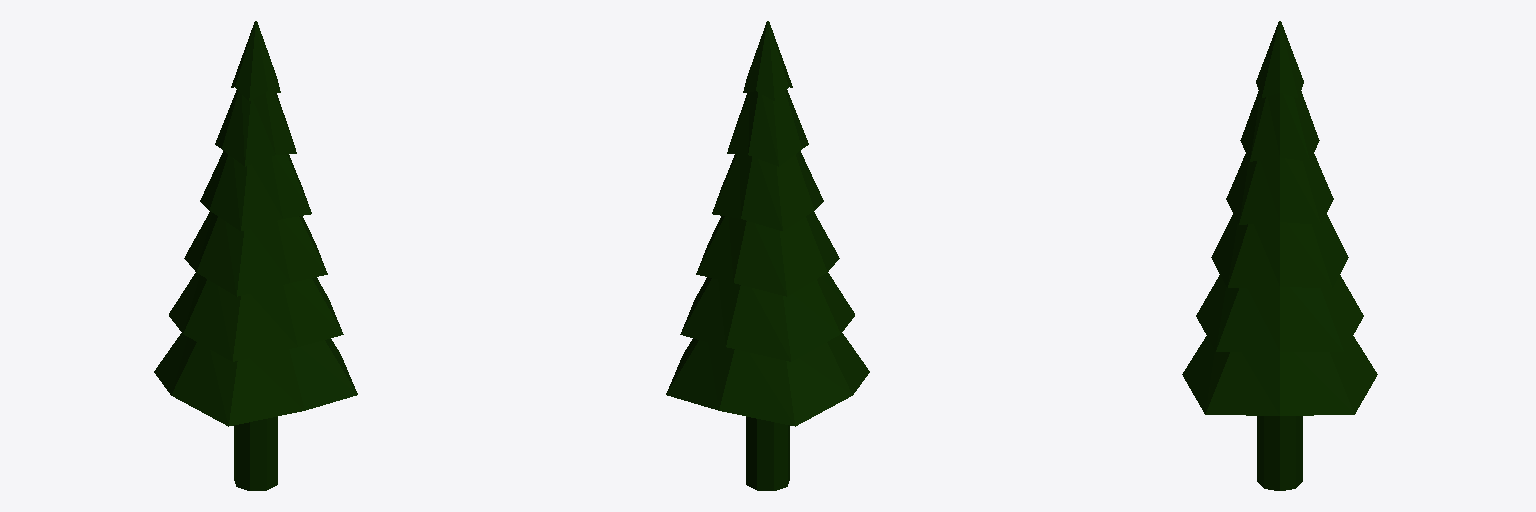
URDF robot description (cylinder.urdf):
<?xml version="1.0" ?>
<robot name="cylinder.urdf">
  <link name="cylinder">
    <contact>
      <lateral_friction value="1.0"/>
      <rolling_friction value="0.0"/>
      <contact_cfm value="0.0"/>
      <contact_erp value="1.0"/>
    </contact>
    <inertial>
      <origin rpy="0 0 0" xyz="0.0 0.0 0.0"/>
       <mass value="1"/>
      <inertia ixx="0.0833" ixy="0.0" ixz="0.0" iyy="0.0833" iyz="0.0" izz="0.0833"/>
    </inertial>
    <visual>
      <origin rpy="1.570796 0 0" xyz="-0.016 -0.016 -0.8"/>
      <geometry>
        <mesh filename="leaves.obj" scale=".5 .5 .5"/>
      </geometry>
       <material name="green">
        <color rgba="0.07843137254 0.2 0.02352941176 1"/>
      </material>
    </visual>
    <visual>
      <origin rpy="1.570796 0 0" xyz="-0.016 -0.016 -.8"/>
      <geometry>
        <mesh filename="bark.obj" scale=".5 .5 .5"/>
      </geometry>
       <material name="green">
        <color rgba="0.07843137254 0.2 0.02352941176 1"/>
      </material>
    </visual>
    <collision>
      <origin xyz="0 0 0"/>
      <geometry>
        <cylinder length="2.0" radius="0.3"/>
      </geometry>
    </collision>
  </link>
</robot>

--- Render facts (derived) ---
The picture shows the robot from 3 angles, left to right: view 1: azimuth 30°, elevation 25°; view 2: azimuth 150°, elevation 25°; view 3: azimuth 270°, elevation 25°; orthographic projection.
Model cylinder.urdf with 1 links and 0 joints (none), rooted at cylinder, posed all joints at 0.
Visible links, largest first — view 1: cylinder; view 2: cylinder; view 3: cylinder.
Link boxes in pixels (left/top/right/bottom): cylinder: left=154, top=21, right=357, bottom=490; cylinder: left=666, top=21, right=869, bottom=490; cylinder: left=1182, top=21, right=1377, bottom=490.
Size in the robot's own frame: 0.9644 by 0.9644 by 2.5 metres.
2 mesh visuals loaded from 2 distinct referenced files (2 OBJ).